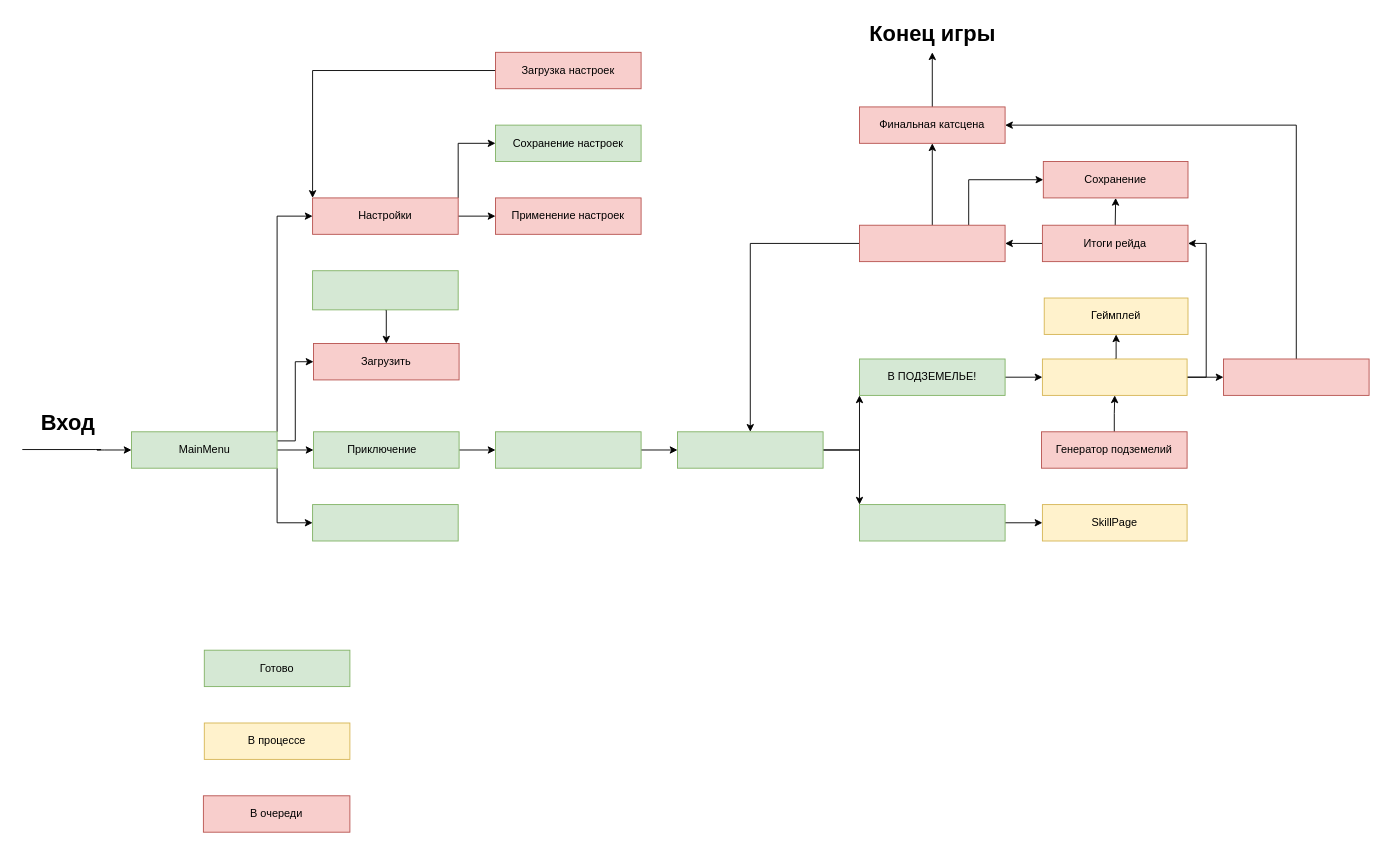
Some shapes in this 1385 by 848 pixel diagram are drawn without their labels. The shapes that lost their labels are listed below. From the top down, each one's centre as x and y in pixels, then its label:
At point (932, 243): "События?".
At point (385, 290): "Система сохранений".
At point (1114, 376): "Dungeon".
At point (1296, 376): "Смерть".
At point (568, 449): "IntroCutscene".
At point (750, 449): "RaidPreparations".
At point (385, 522): "Выход".
At point (932, 522): "Навыки".
